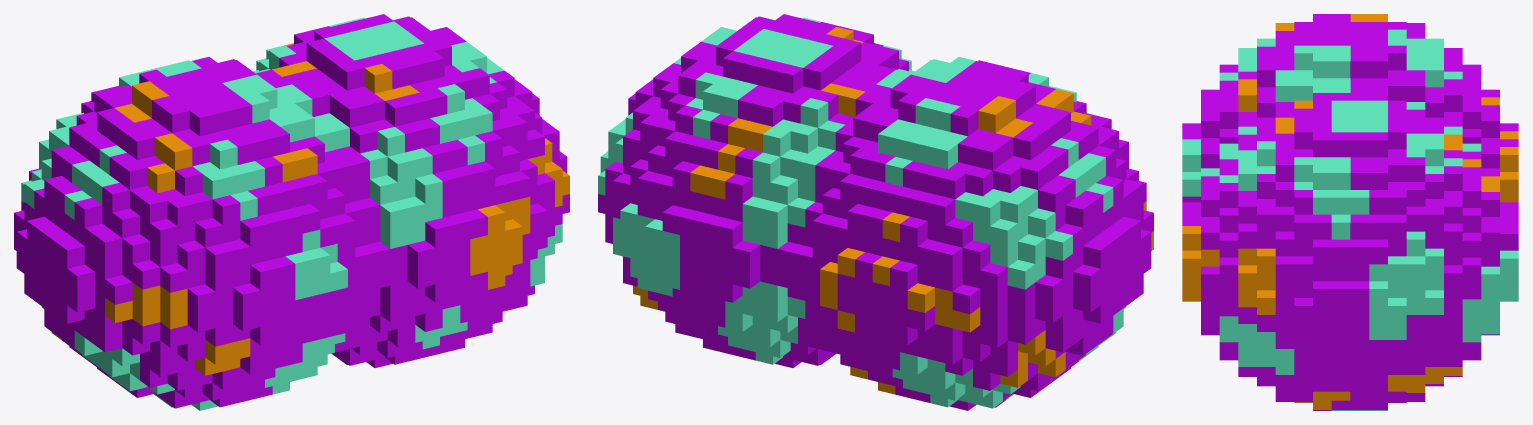
The model's file is HydraV1.obj.
The picture shows the model from 3 angles, left to right: view 1: azimuth 30°, elevation 25°; view 2: azimuth 150°, elevation 25°; view 3: azimuth 270°, elevation 25°; orthographic projection. The views are drawn at different scales.
Size of the model in its own units: 2.8 by 1.6 by 1.8.
1 material, 1 textured.
